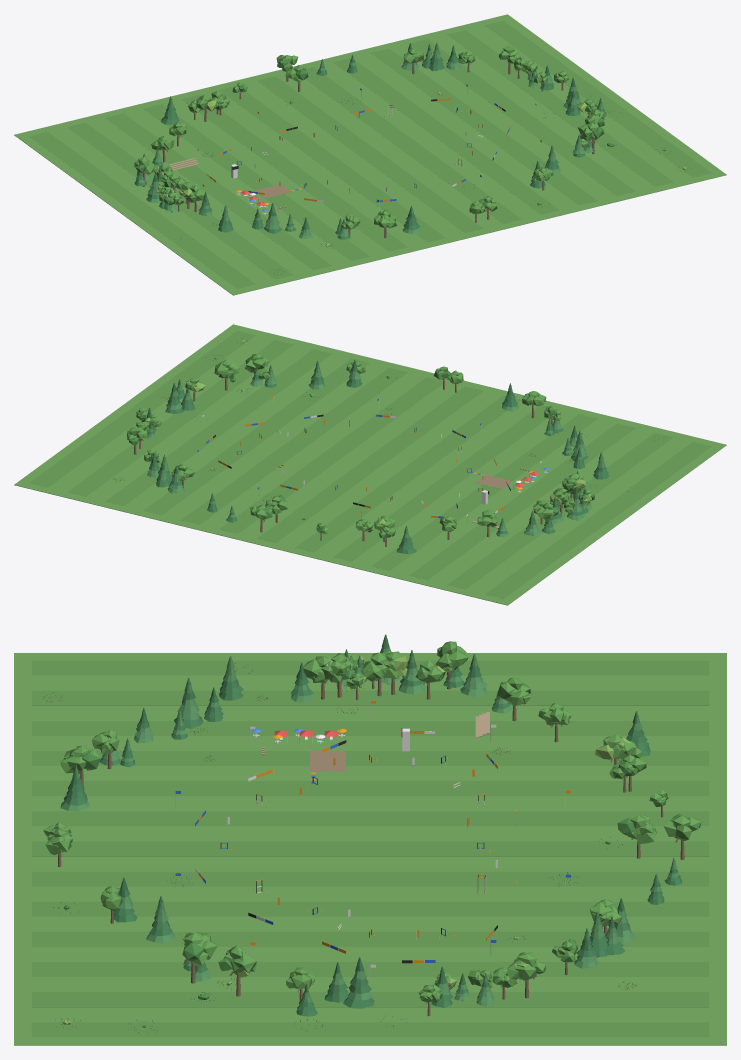
Rendered from racetrack.glb.
The picture shows the model from 3 angles, top to bottom: view 1: azimuth 30°, elevation 25°; view 2: azimuth 150°, elevation 25°; view 3: azimuth 270°, elevation 25°; orthographic projection. The views are drawn at different scales.
Parts seen in each view (by area): view 1: map; view 2: map; view 3: map.
Boxes of the visible parts, x1=… form: map: x1=14, y1=14, x2=726, y2=295; map: x1=14, y1=324, x2=726, y2=605; map: x1=14, y1=634, x2=726, y2=1045.
Size of the model in its own units: 260 by 15.88 by 200.
